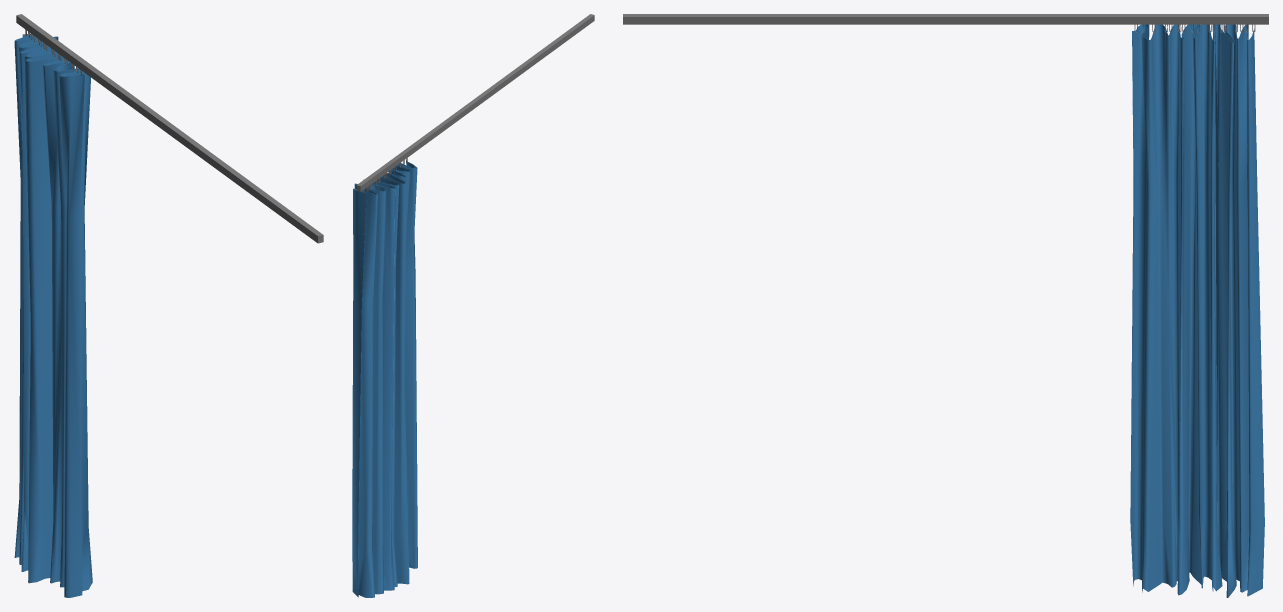
Rendered from Curtain.fbx.
3 views of the same model, side by side, from view 1: azimuth 30°, elevation 25°; view 2: azimuth 150°, elevation 25°; view 3: azimuth 270°, elevation 25° (orthographic). The views are drawn at different scales.
Visible parts, largest first — view 1: curtain; view 2: curtain; view 3: curtain.
Part boxes in pixels (x1=…): curtain: x1=14, y1=14, x2=323, y2=597; curtain: x1=352, y1=14, x2=594, y2=597; curtain: x1=623, y1=14, x2=1268, y2=597.
Bounding box in the file's own units: 23.79 × 242 × 248.
2 materials, 1 textured.
